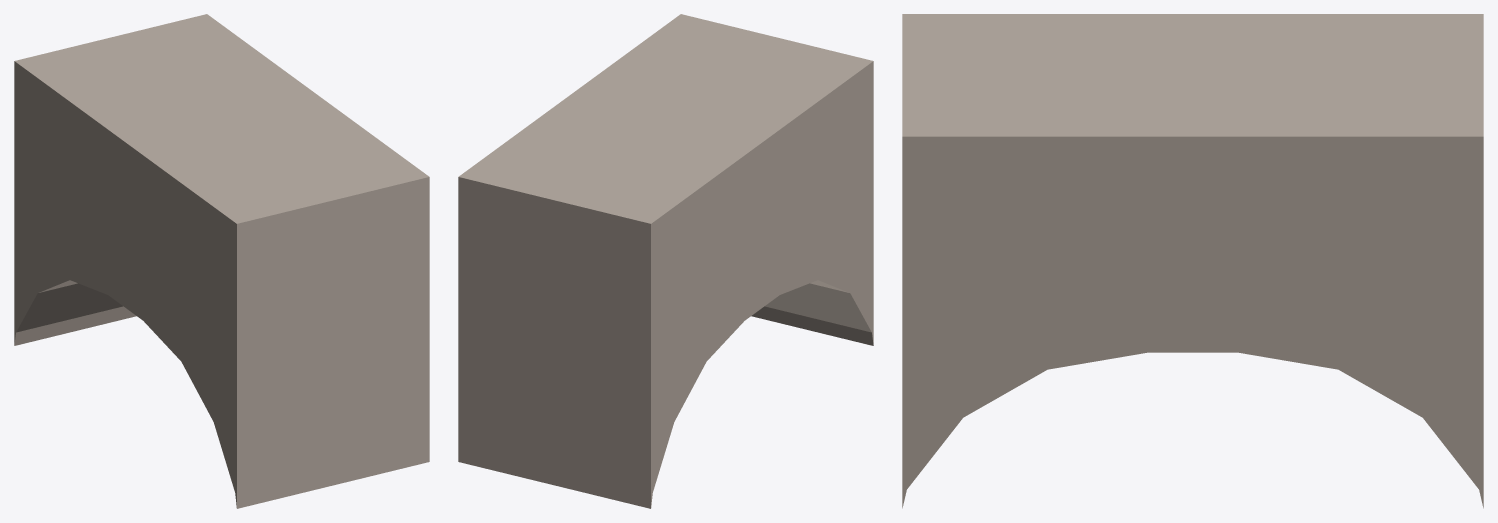
The model's file is arcoPiedra1.glb.
The picture shows the model from 3 angles, left to right: view 1: azimuth 30°, elevation 25°; view 2: azimuth 150°, elevation 25°; view 3: azimuth 270°, elevation 25°; orthographic projection. The views are drawn at different scales.
Visible parts, largest first — view 1: object1; view 2: object1; view 3: object1.
Boxes of the visible parts, left/top/right/bottom form: object1: left=14, top=14, right=429, bottom=508; object1: left=458, top=14, right=873, bottom=508; object1: left=902, top=14, right=1483, bottom=508.
Bounding box in the file's own units: 1 × 1.41 × 2.
